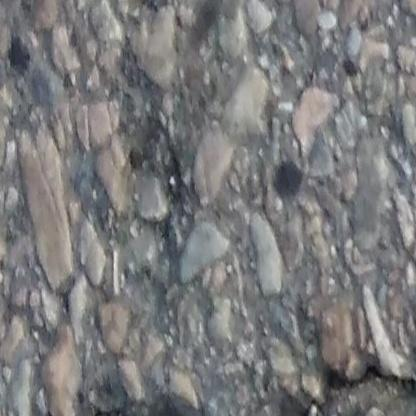Cracks: (267, 361, 416, 416), (4, 391, 206, 416)
